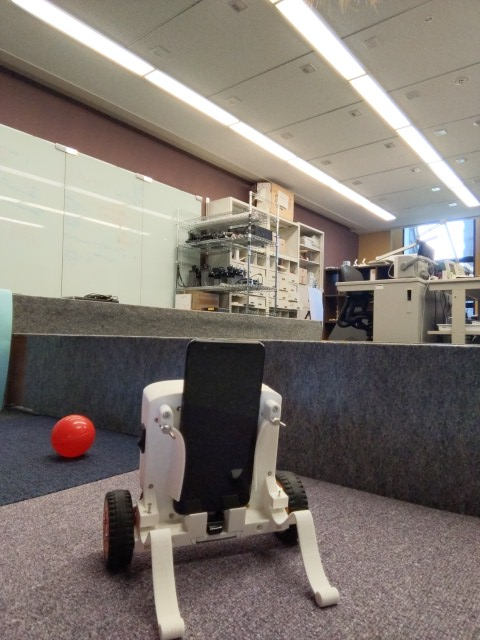f: (98, 332, 342, 640)
